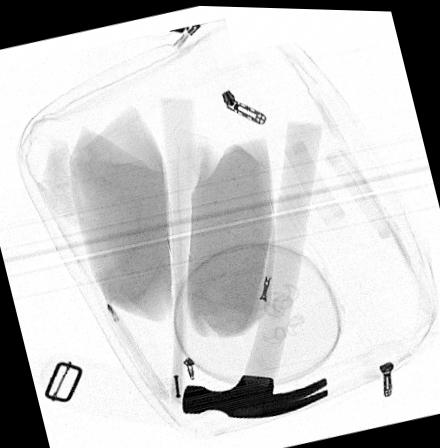Hammer: (180, 118, 328, 417)
